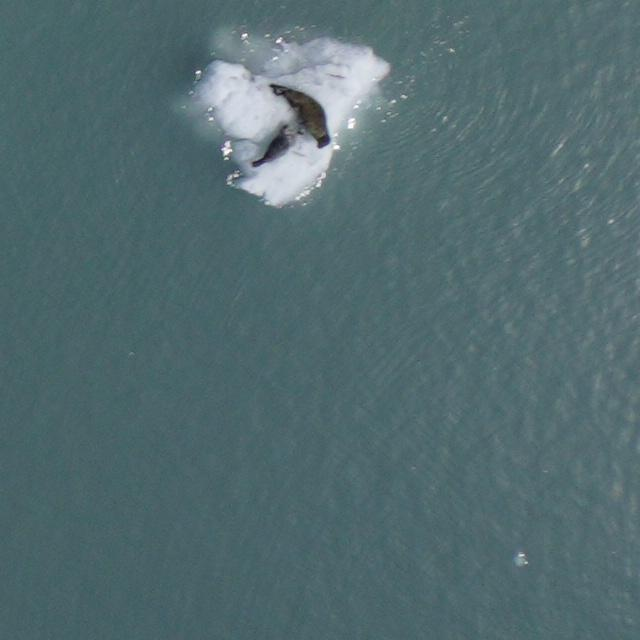seal: (267, 68, 341, 149), (243, 120, 304, 177)
